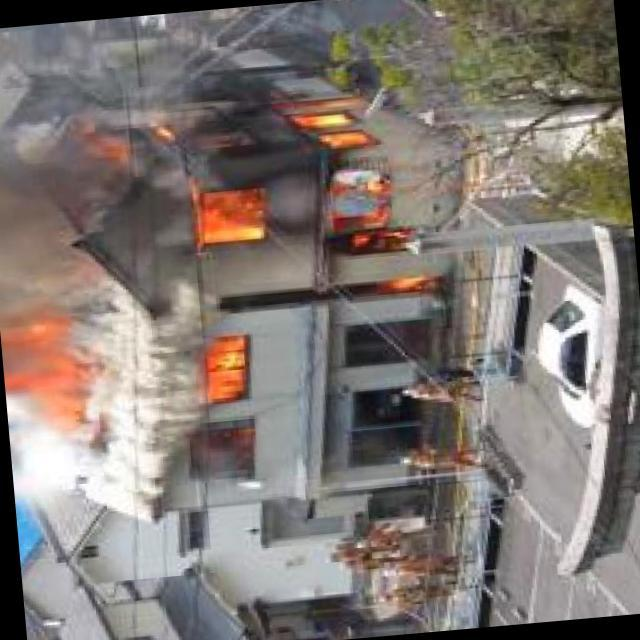Fire: (127, 57, 456, 321), (1, 306, 102, 441), (198, 342, 252, 410)
